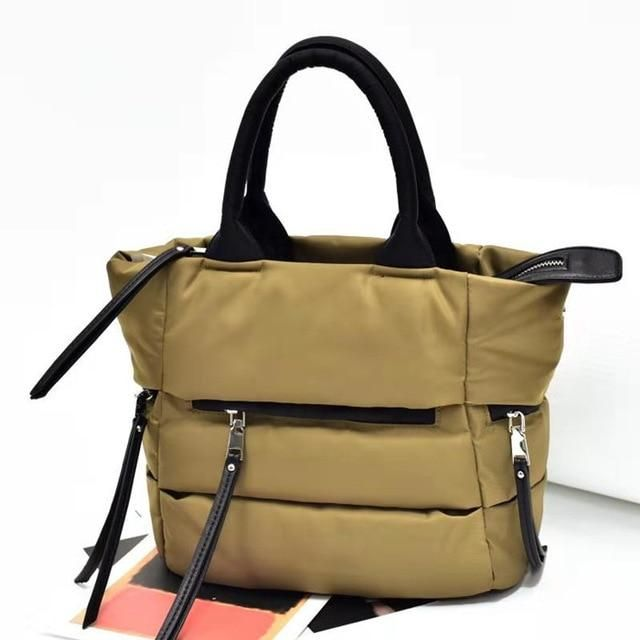nylon: (104, 224, 573, 601)
